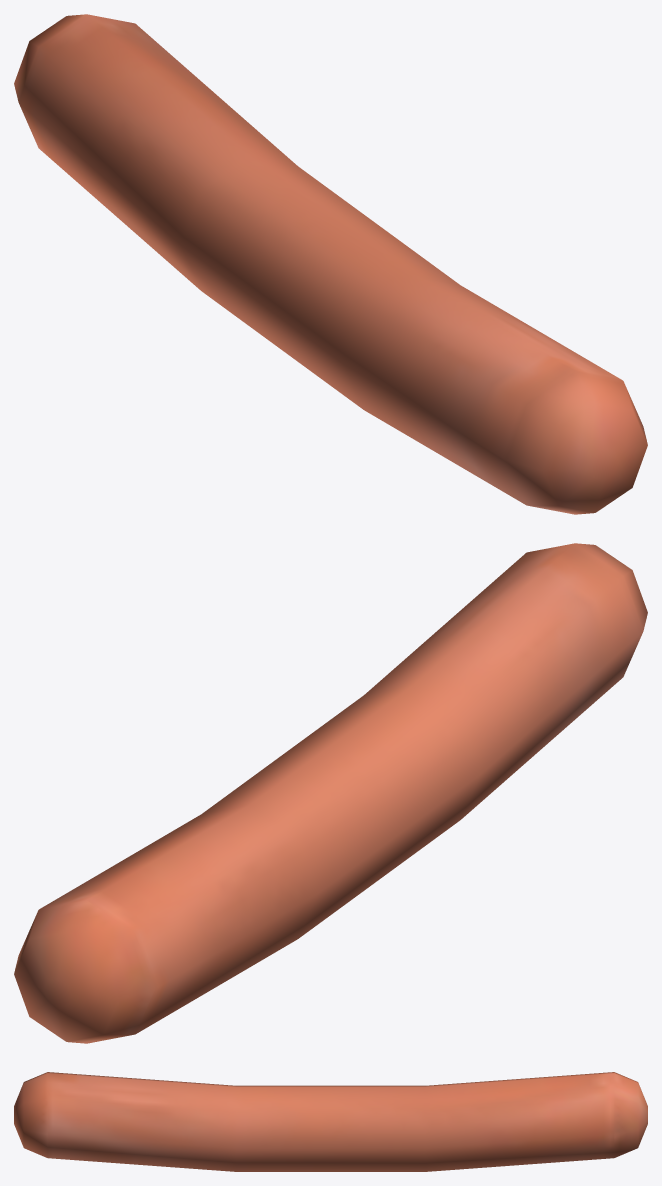
File: sausage.fbx
3 views of the same model, one above another, from view 1: azimuth 30°, elevation 25°; view 2: azimuth 150°, elevation 25°; view 3: azimuth 270°, elevation 25° (orthographic). The views are drawn at different scales.
Parts seen in each view (by area): view 1: sausage; view 2: sausage; view 3: sausage.
Boxes of the visible parts, bbox=[...] form: sausage: bbox=[14, 14, 647, 514]; sausage: bbox=[14, 543, 647, 1043]; sausage: bbox=[14, 1072, 647, 1171].
Bounding box in the file's own units: 2.79 × 3.25 × 19.25.
1 material, 1 textured.
